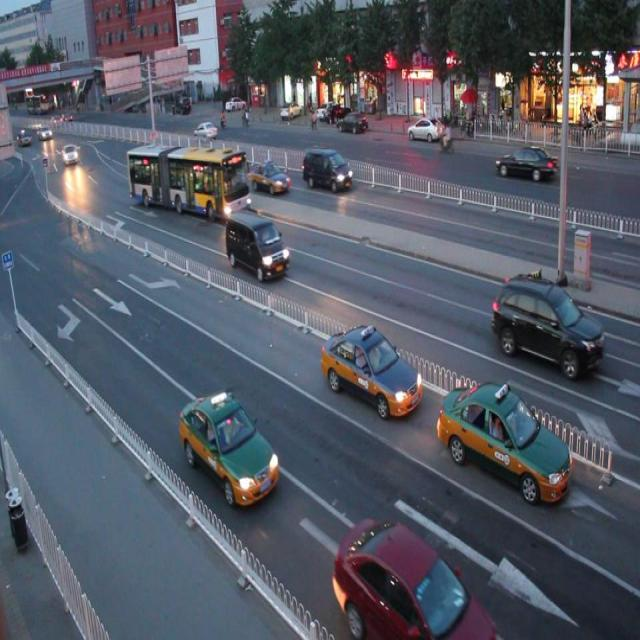car: (333, 514, 500, 640), (435, 378, 572, 503), (492, 270, 606, 379), (179, 388, 279, 506), (321, 321, 422, 417), (495, 144, 557, 181), (246, 158, 288, 193)
truck: (225, 207, 289, 281), (301, 146, 353, 193)
van: (127, 143, 249, 220)
